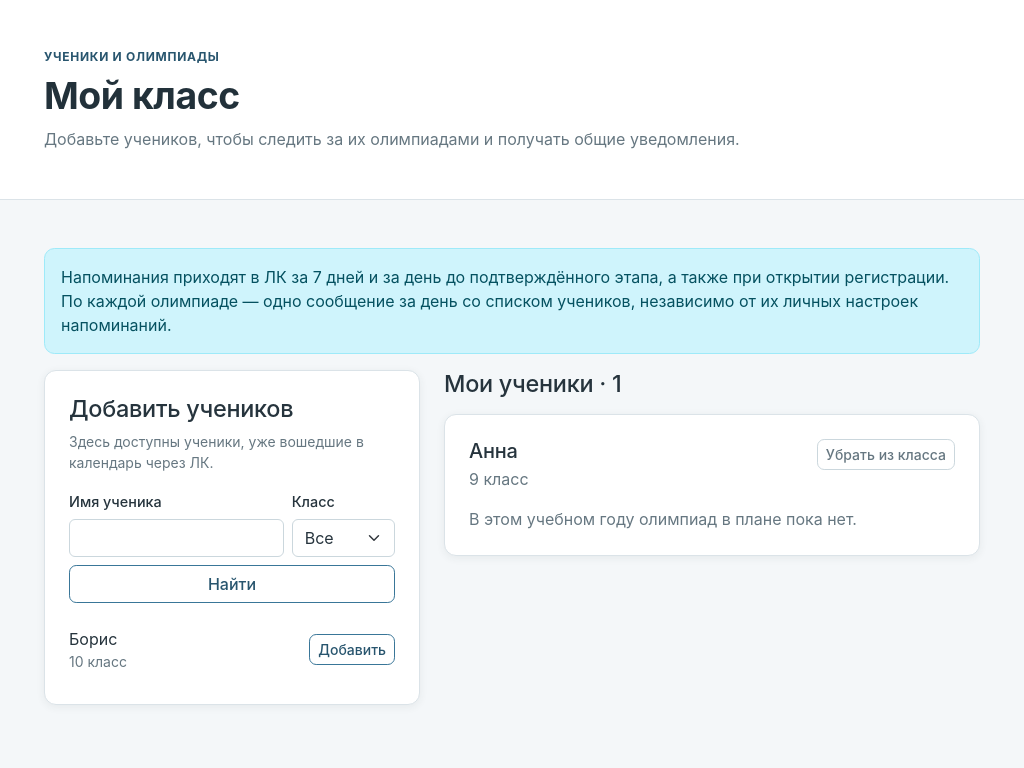
it: Мой класс › добавляет и убирает ученика с CSRF, обновляет оба списка
Click the button with aria-label "Добавить: Борис". click: (352, 650)
box: [309,634,395,665]
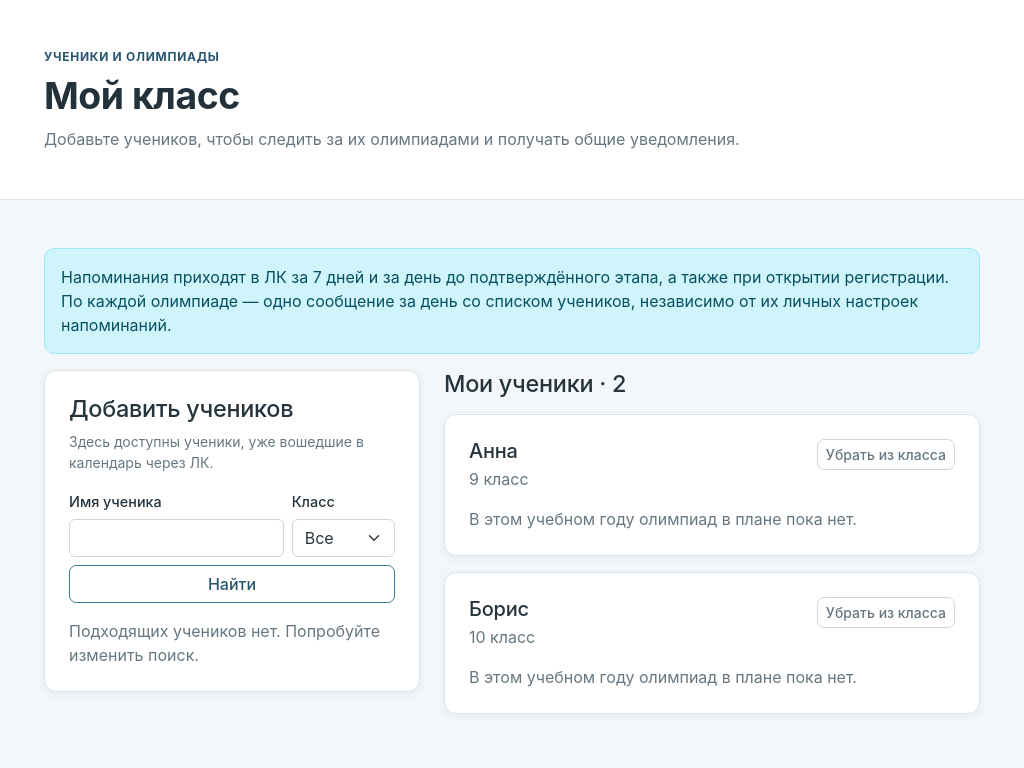
Expected: the text "Мои ученики · 2" is shown, [444,369,626,398]
Click the button with aria-label "Убрать из класса: Борис". click: (886, 612)
box: [817,597,955,628]
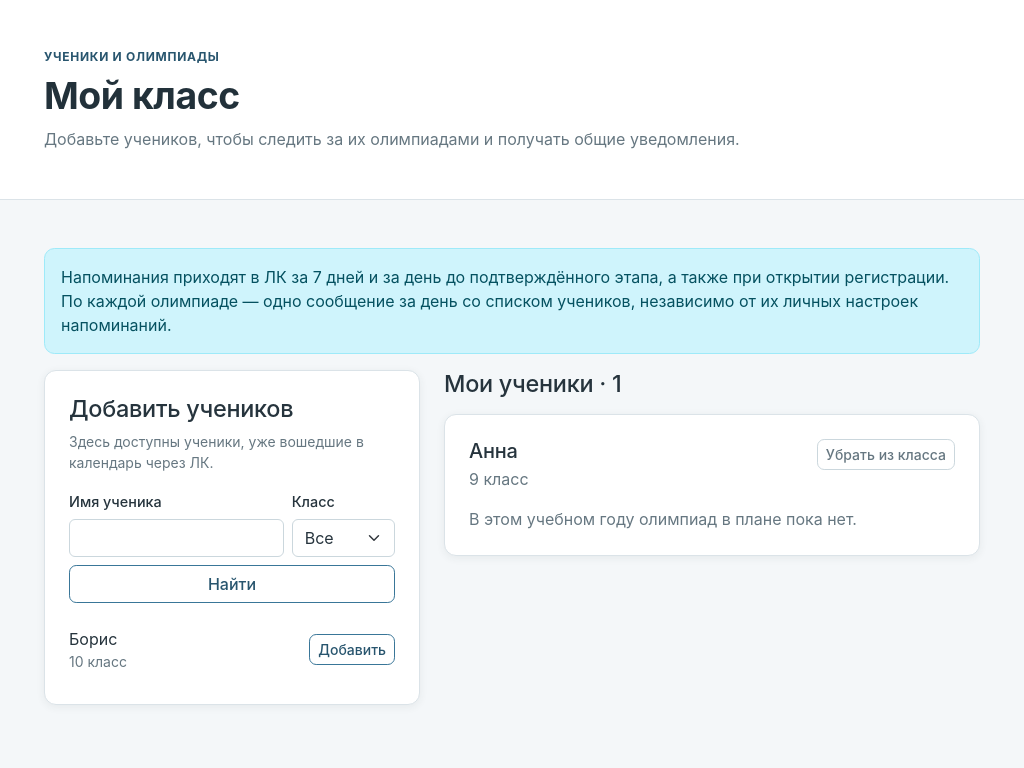
Expected: the text "Мои ученики · 1" is shown, [444,369,622,398]
